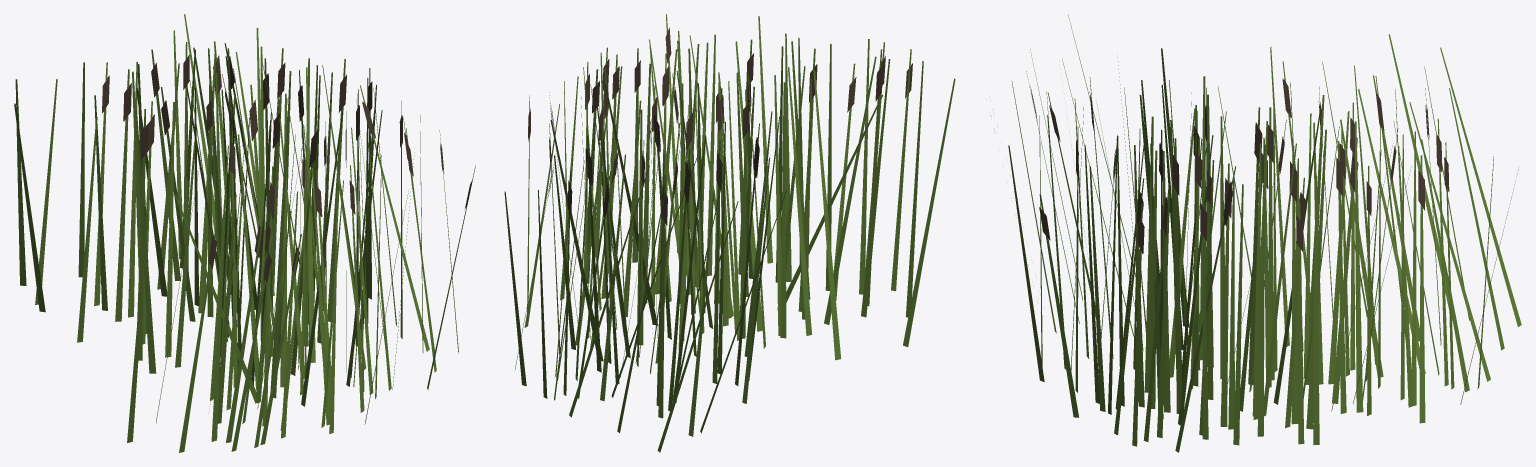
File: 2DPolyReeds.fbx
3 views of the same model, side by side, from view 1: azimuth 30°, elevation 25°; view 2: azimuth 150°, elevation 25°; view 3: azimuth 270°, elevation 25° (orthographic). The views are drawn at different scales.
Parts seen in each view (by area): view 1: Reed2DPoly_Model; view 2: Reed2DPoly_Model; view 3: Reed2DPoly_Model.
Boxes of the visible parts, x1,y1,x2,y2 form: Reed2DPoly_Model: [14, 14, 475, 452]; Reed2DPoly_Model: [504, 14, 955, 452]; Reed2DPoly_Model: [990, 14, 1521, 452].
Bounding box in the file's own units: 451 × 356 × 584.
